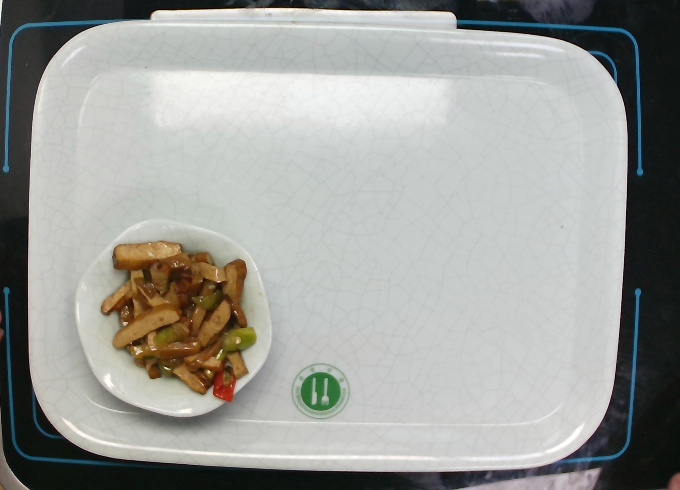WCQzf-Hua_Duo_Wan: (70, 213, 274, 419)
